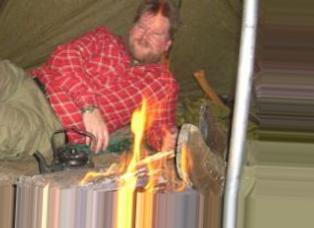fire: (93, 103, 189, 191)
